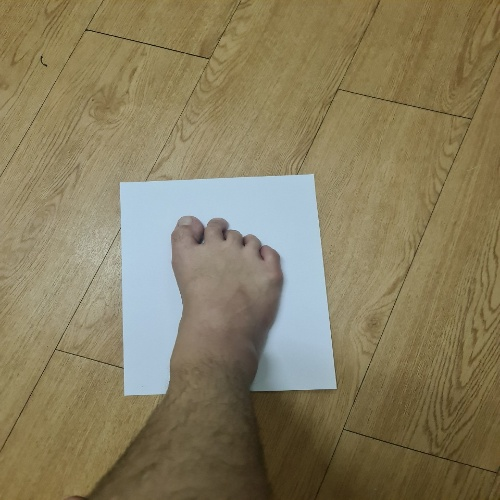Top_Foot: (102, 162, 364, 413)
